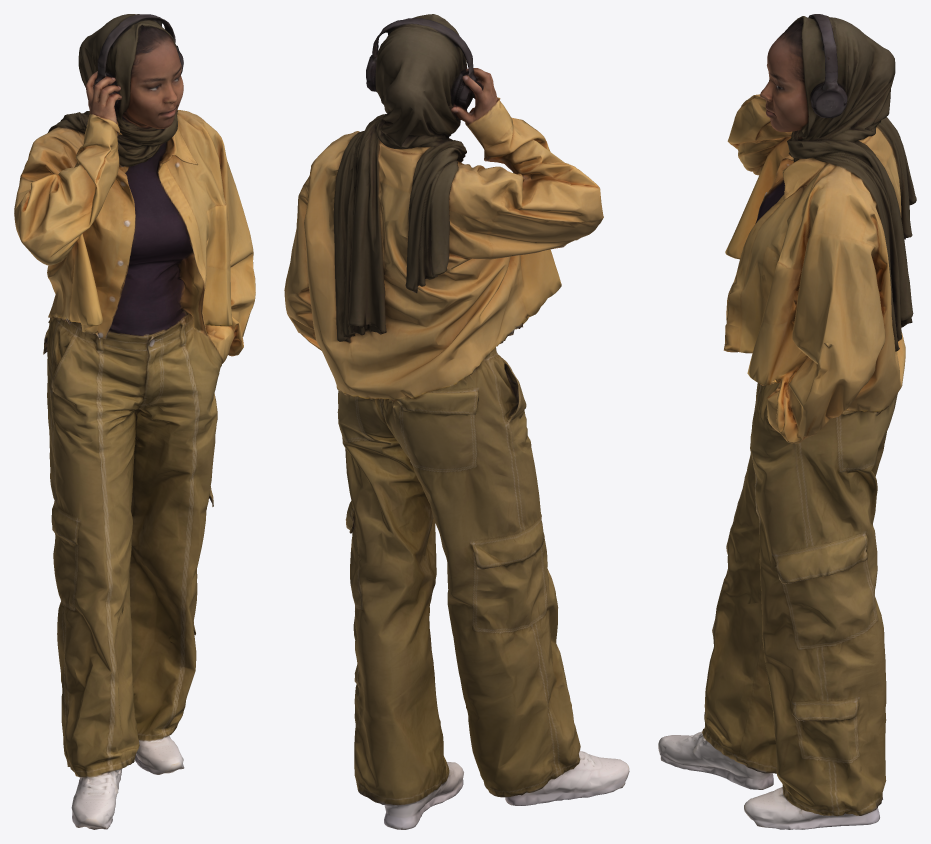
Rendered from patient_draco.glb.
The picture shows the model from 3 angles, left to right: view 1: azimuth 30°, elevation 25°; view 2: azimuth 150°, elevation 25°; view 3: azimuth 270°, elevation 25°; orthographic projection. The views are drawn at different scales.
Visible parts, largest first — view 1: rp_posed_00178_29; view 2: rp_posed_00178_29; view 3: rp_posed_00178_29.
Boxes of the visible parts, <box> form: rp_posed_00178_29: <box>14,14,255,829</box>; rp_posed_00178_29: <box>284,14,629,829</box>; rp_posed_00178_29: <box>658,14,916,829</box>.
Bounding box in the file's own units: 0.064 × 0.1725 × 0.0506.
Materials: 1 (1 with a texture image).
